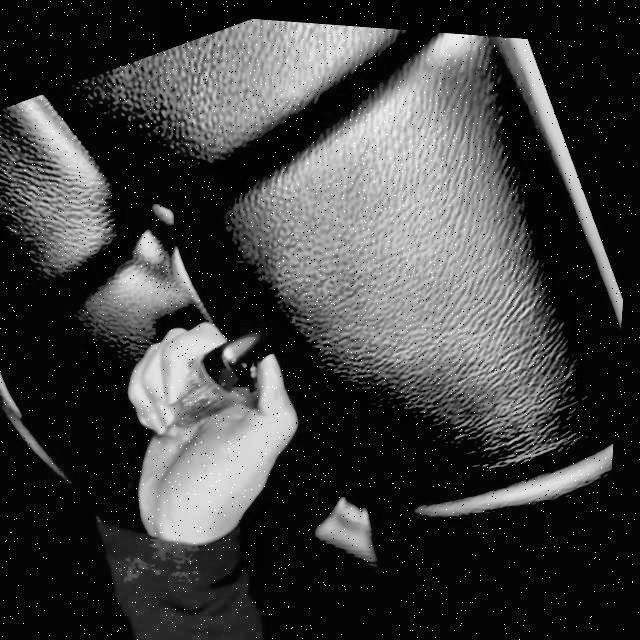Fire: (221, 322, 272, 363)
